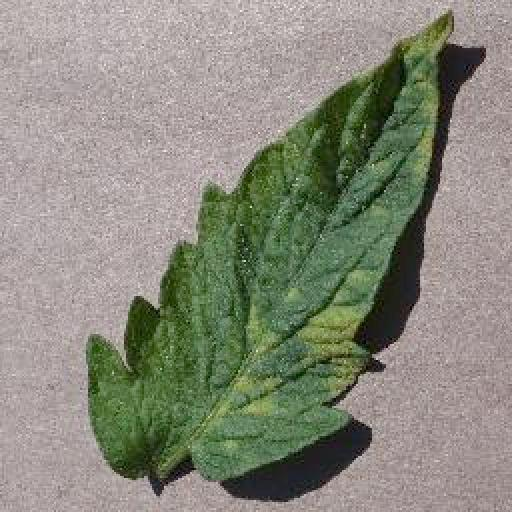disease_tomato: (90, 10, 456, 480)
